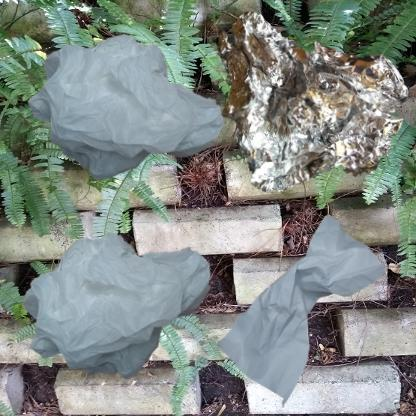aluminio: (213, 10, 409, 195)
bolsa: (10, 10, 269, 238), (10, 213, 243, 409)
papel: (213, 213, 388, 409)
